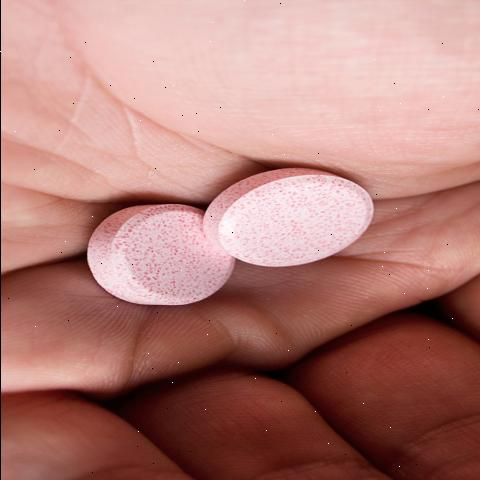Pill: (206, 164, 386, 282), (79, 204, 231, 314)
